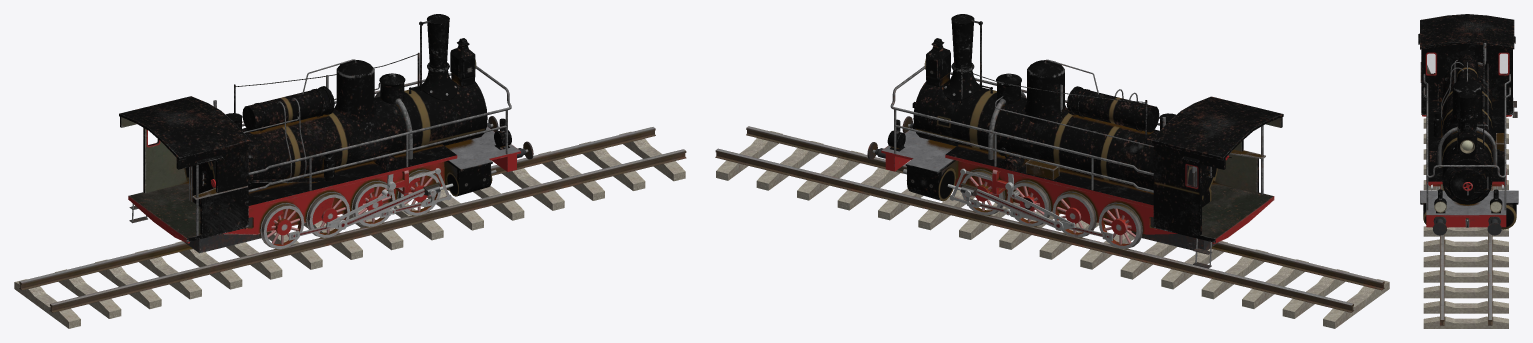
File: train.gltf
The picture shows the model from 3 angles, left to right: view 1: azimuth 30°, elevation 25°; view 2: azimuth 150°, elevation 25°; view 3: azimuth 270°, elevation 25°; orthographic projection. The views are drawn at different scales.
Visible parts, largest first — view 1: Steam_engine_optimize_Steam_up_headusOBJexport, Steam_engine_optimize_pasted__Down; view 2: Steam_engine_optimize_Steam_up_headusOBJexport, Steam_engine_optimize_pasted__Down; view 3: Steam_engine_optimize_Steam_up_headusOBJexport, Steam_engine_optimize_pasted__Down.
Part boxes in pixels (box(x1,y1,x2,y2)): Steam_engine_optimize_Steam_up_headusOBJexport: box(119, 14, 520, 242); Steam_engine_optimize_pasted__Down: box(14, 116, 686, 328); Steam_engine_optimize_Steam_up_headusOBJexport: box(881, 14, 1283, 242); Steam_engine_optimize_pasted__Down: box(715, 116, 1389, 328); Steam_engine_optimize_Steam_up_headusOBJexport: box(1418, 14, 1518, 229); Steam_engine_optimize_pasted__Down: box(1422, 98, 1517, 328).
Size of the model in its own units: 2 by 0.5884 by 0.3492.
